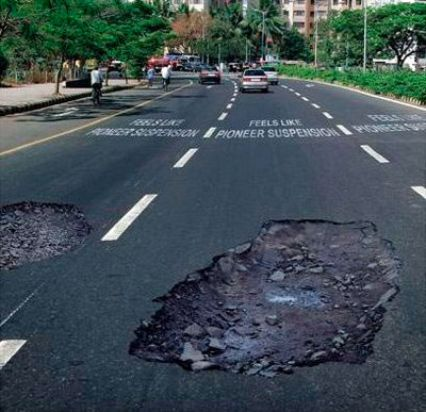pothole: (124, 214, 404, 378), (0, 199, 96, 271)
